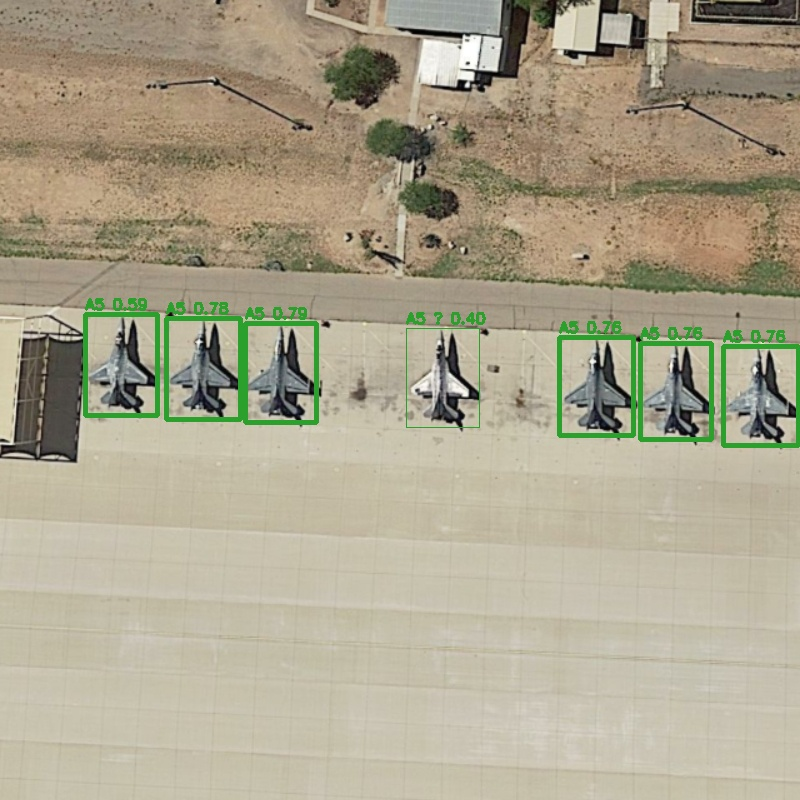A5: (166, 318, 240, 419), (723, 346, 798, 445), (85, 314, 157, 415), (559, 337, 633, 435), (406, 328, 479, 427), (245, 323, 316, 422), (640, 343, 711, 439)
